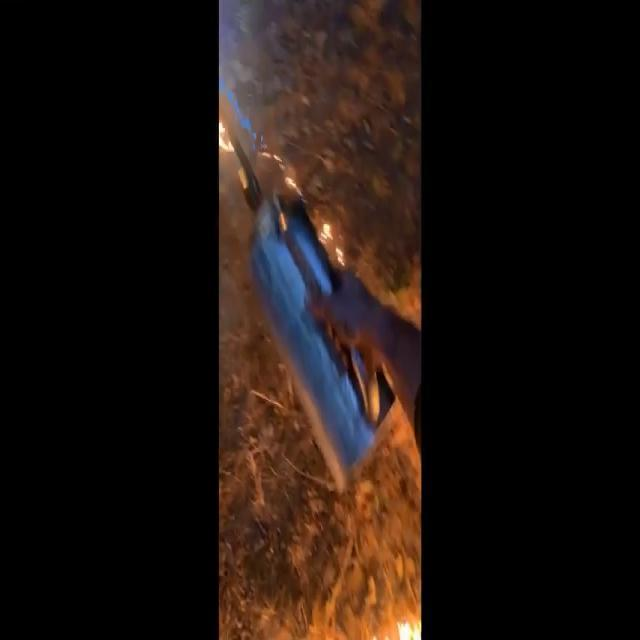Fire: (218, 110, 350, 270), (371, 604, 421, 640)
